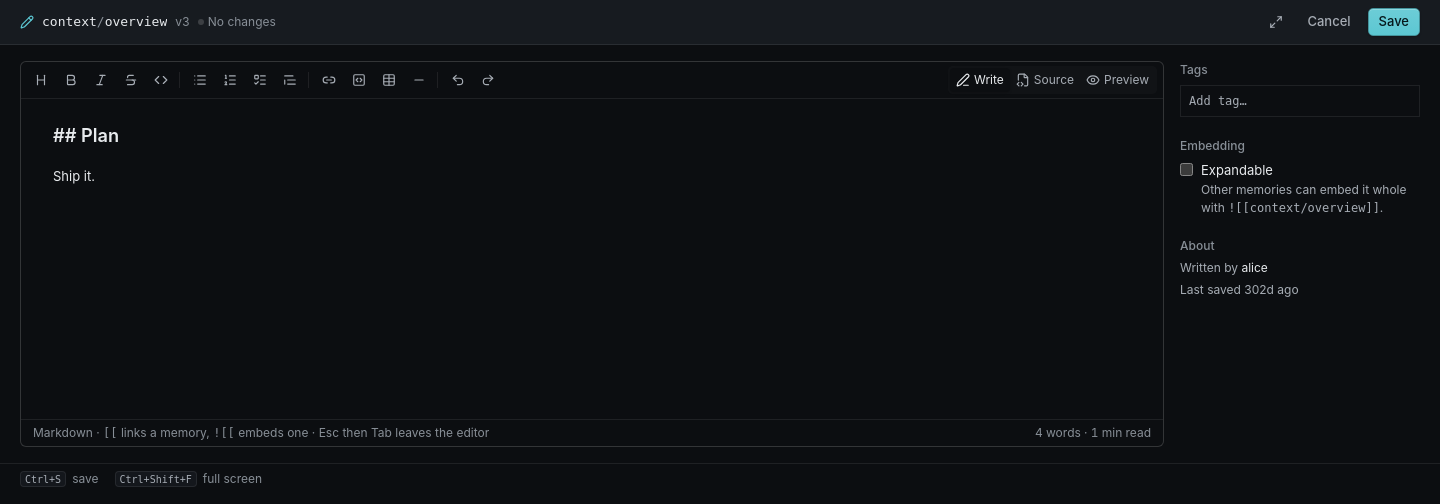
Scenario: MemoryEditor › previews the body as readers will see it
This screenshot has width=1440, height=504.
Step 1. Click the radio button labelled "Preview" → click(1118, 80), box x1=1080 y1=68 x2=1155 y2=92
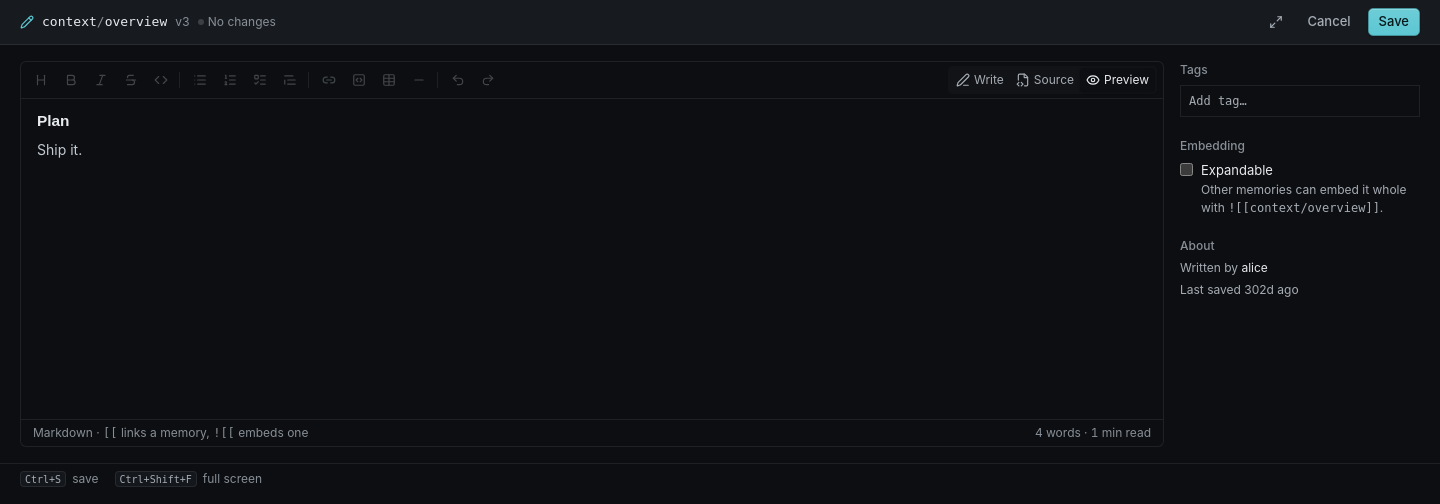
Expected: the heading "Plan" is shown, x1=37 y1=112 x2=70 y2=129
Result: the button named "Bold" is disabled at x1=57 y1=66 x2=85 y2=94
